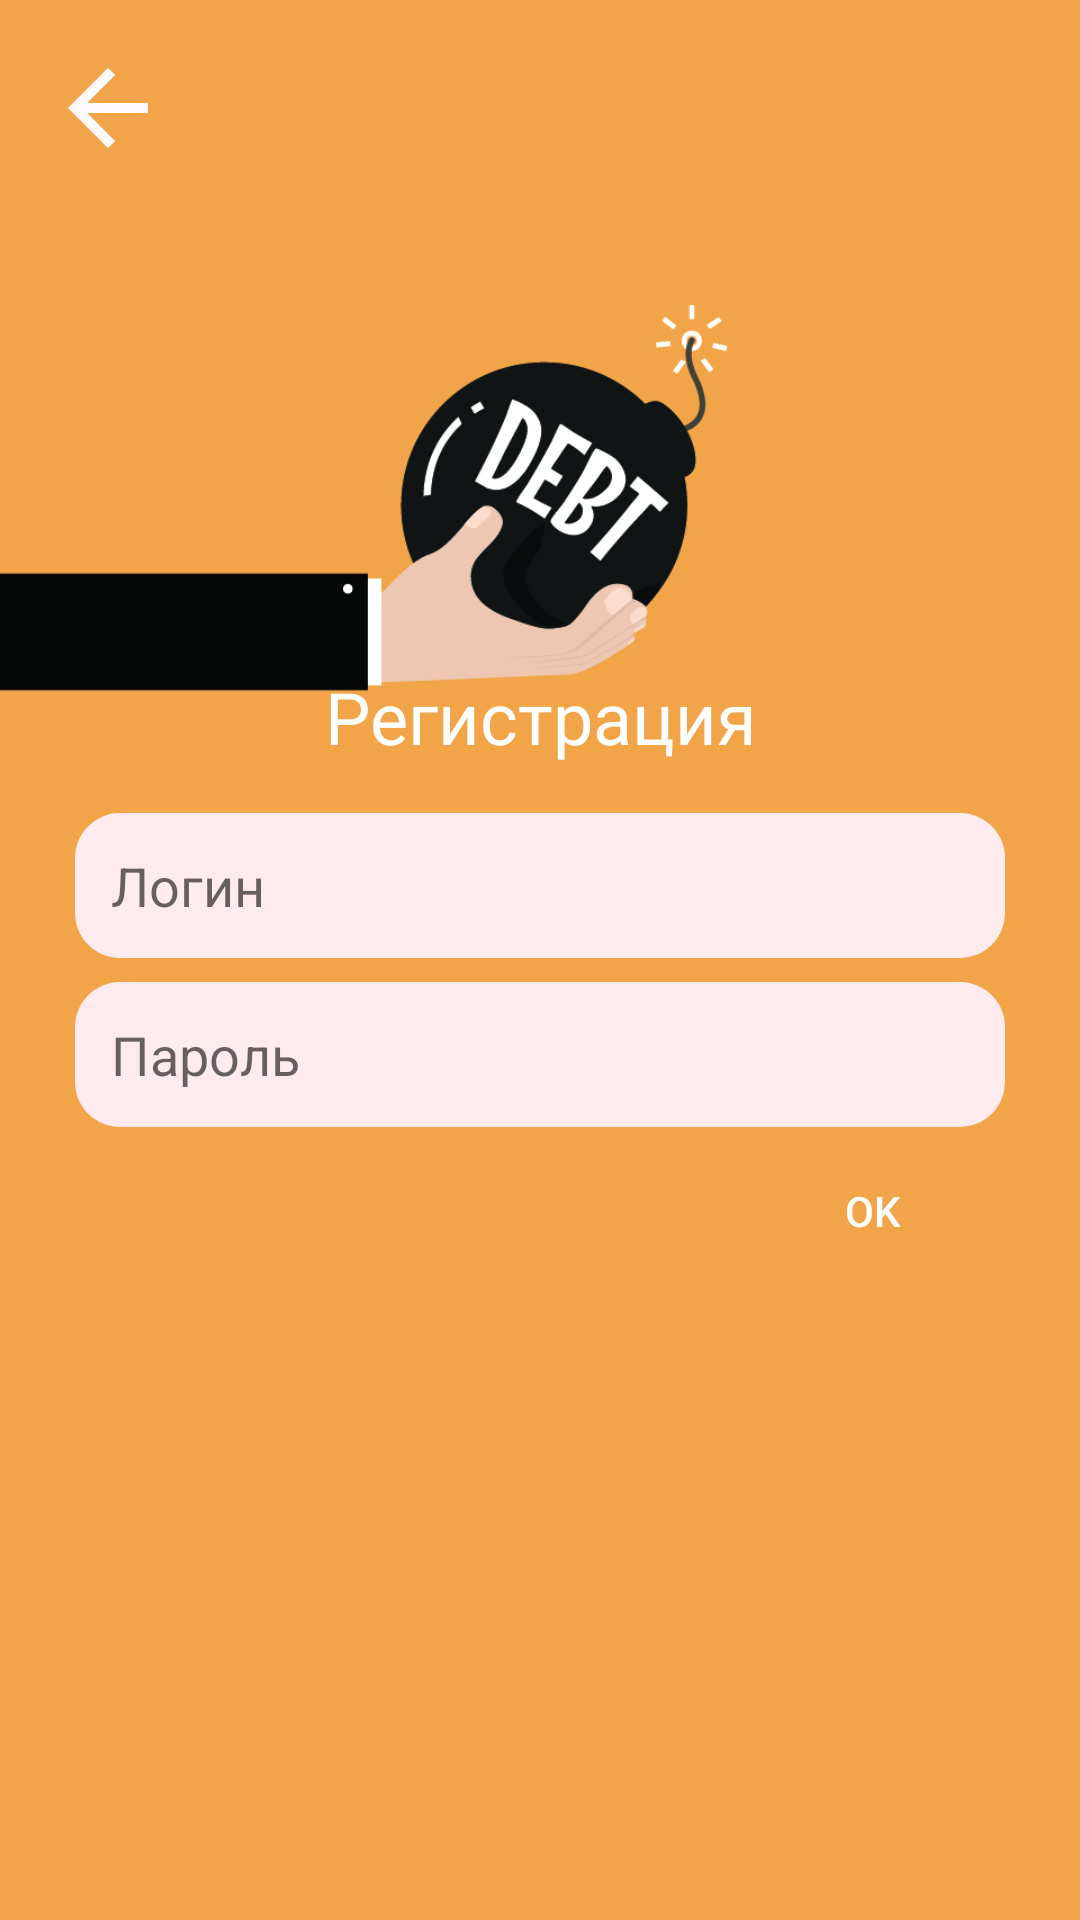

Named icons in this screenshot (1080*1920) and their centers, [x,y]:
arrow back: [108,108]
